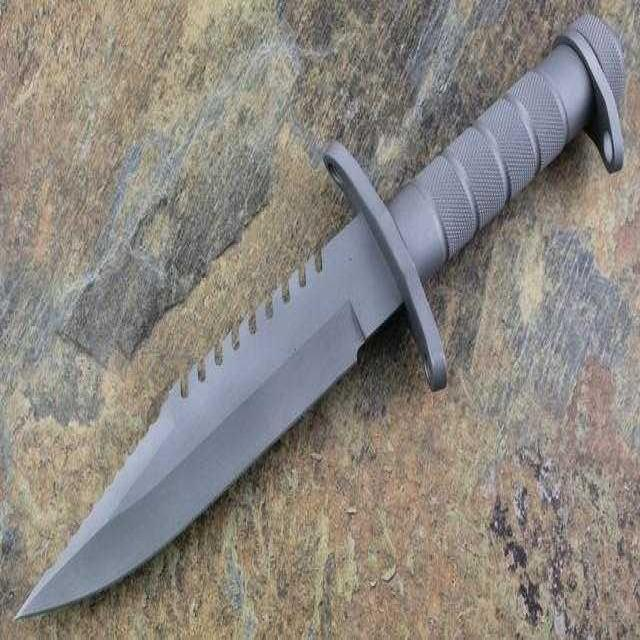knife: (12, 25, 625, 630)
